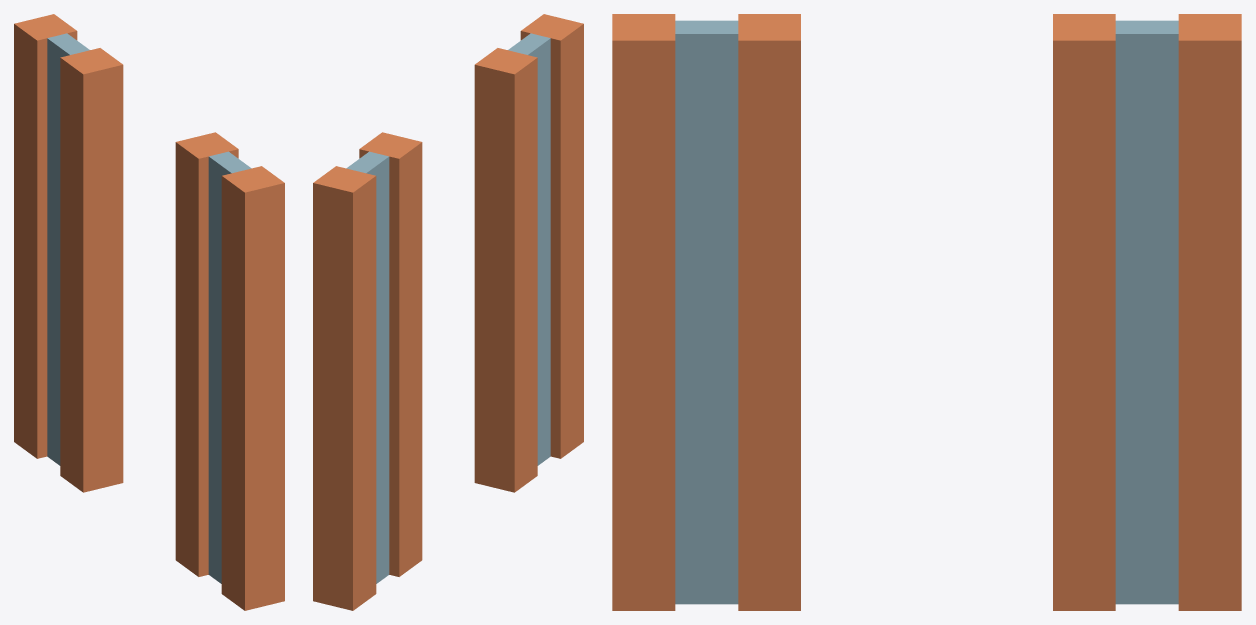
The model's file is wallDoorwayBase.fbx.
The picture shows the model from 3 angles, left to right: view 1: azimuth 30°, elevation 25°; view 2: azimuth 150°, elevation 25°; view 3: azimuth 270°, elevation 25°; orthographic projection. The views are drawn at different scales.
Visible parts, largest first — view 1: wallDoorwayBase; view 2: wallDoorwayBase; view 3: wallDoorwayBase.
Boxes of the visible parts, x1,y1,x2,y2 form: wallDoorwayBase: (14,14,284,610); wallDoorwayBase: (313,14,583,610); wallDoorwayBase: (612,14,1241,610).
Size of the model in its own units: 1 by 10 by 10.
